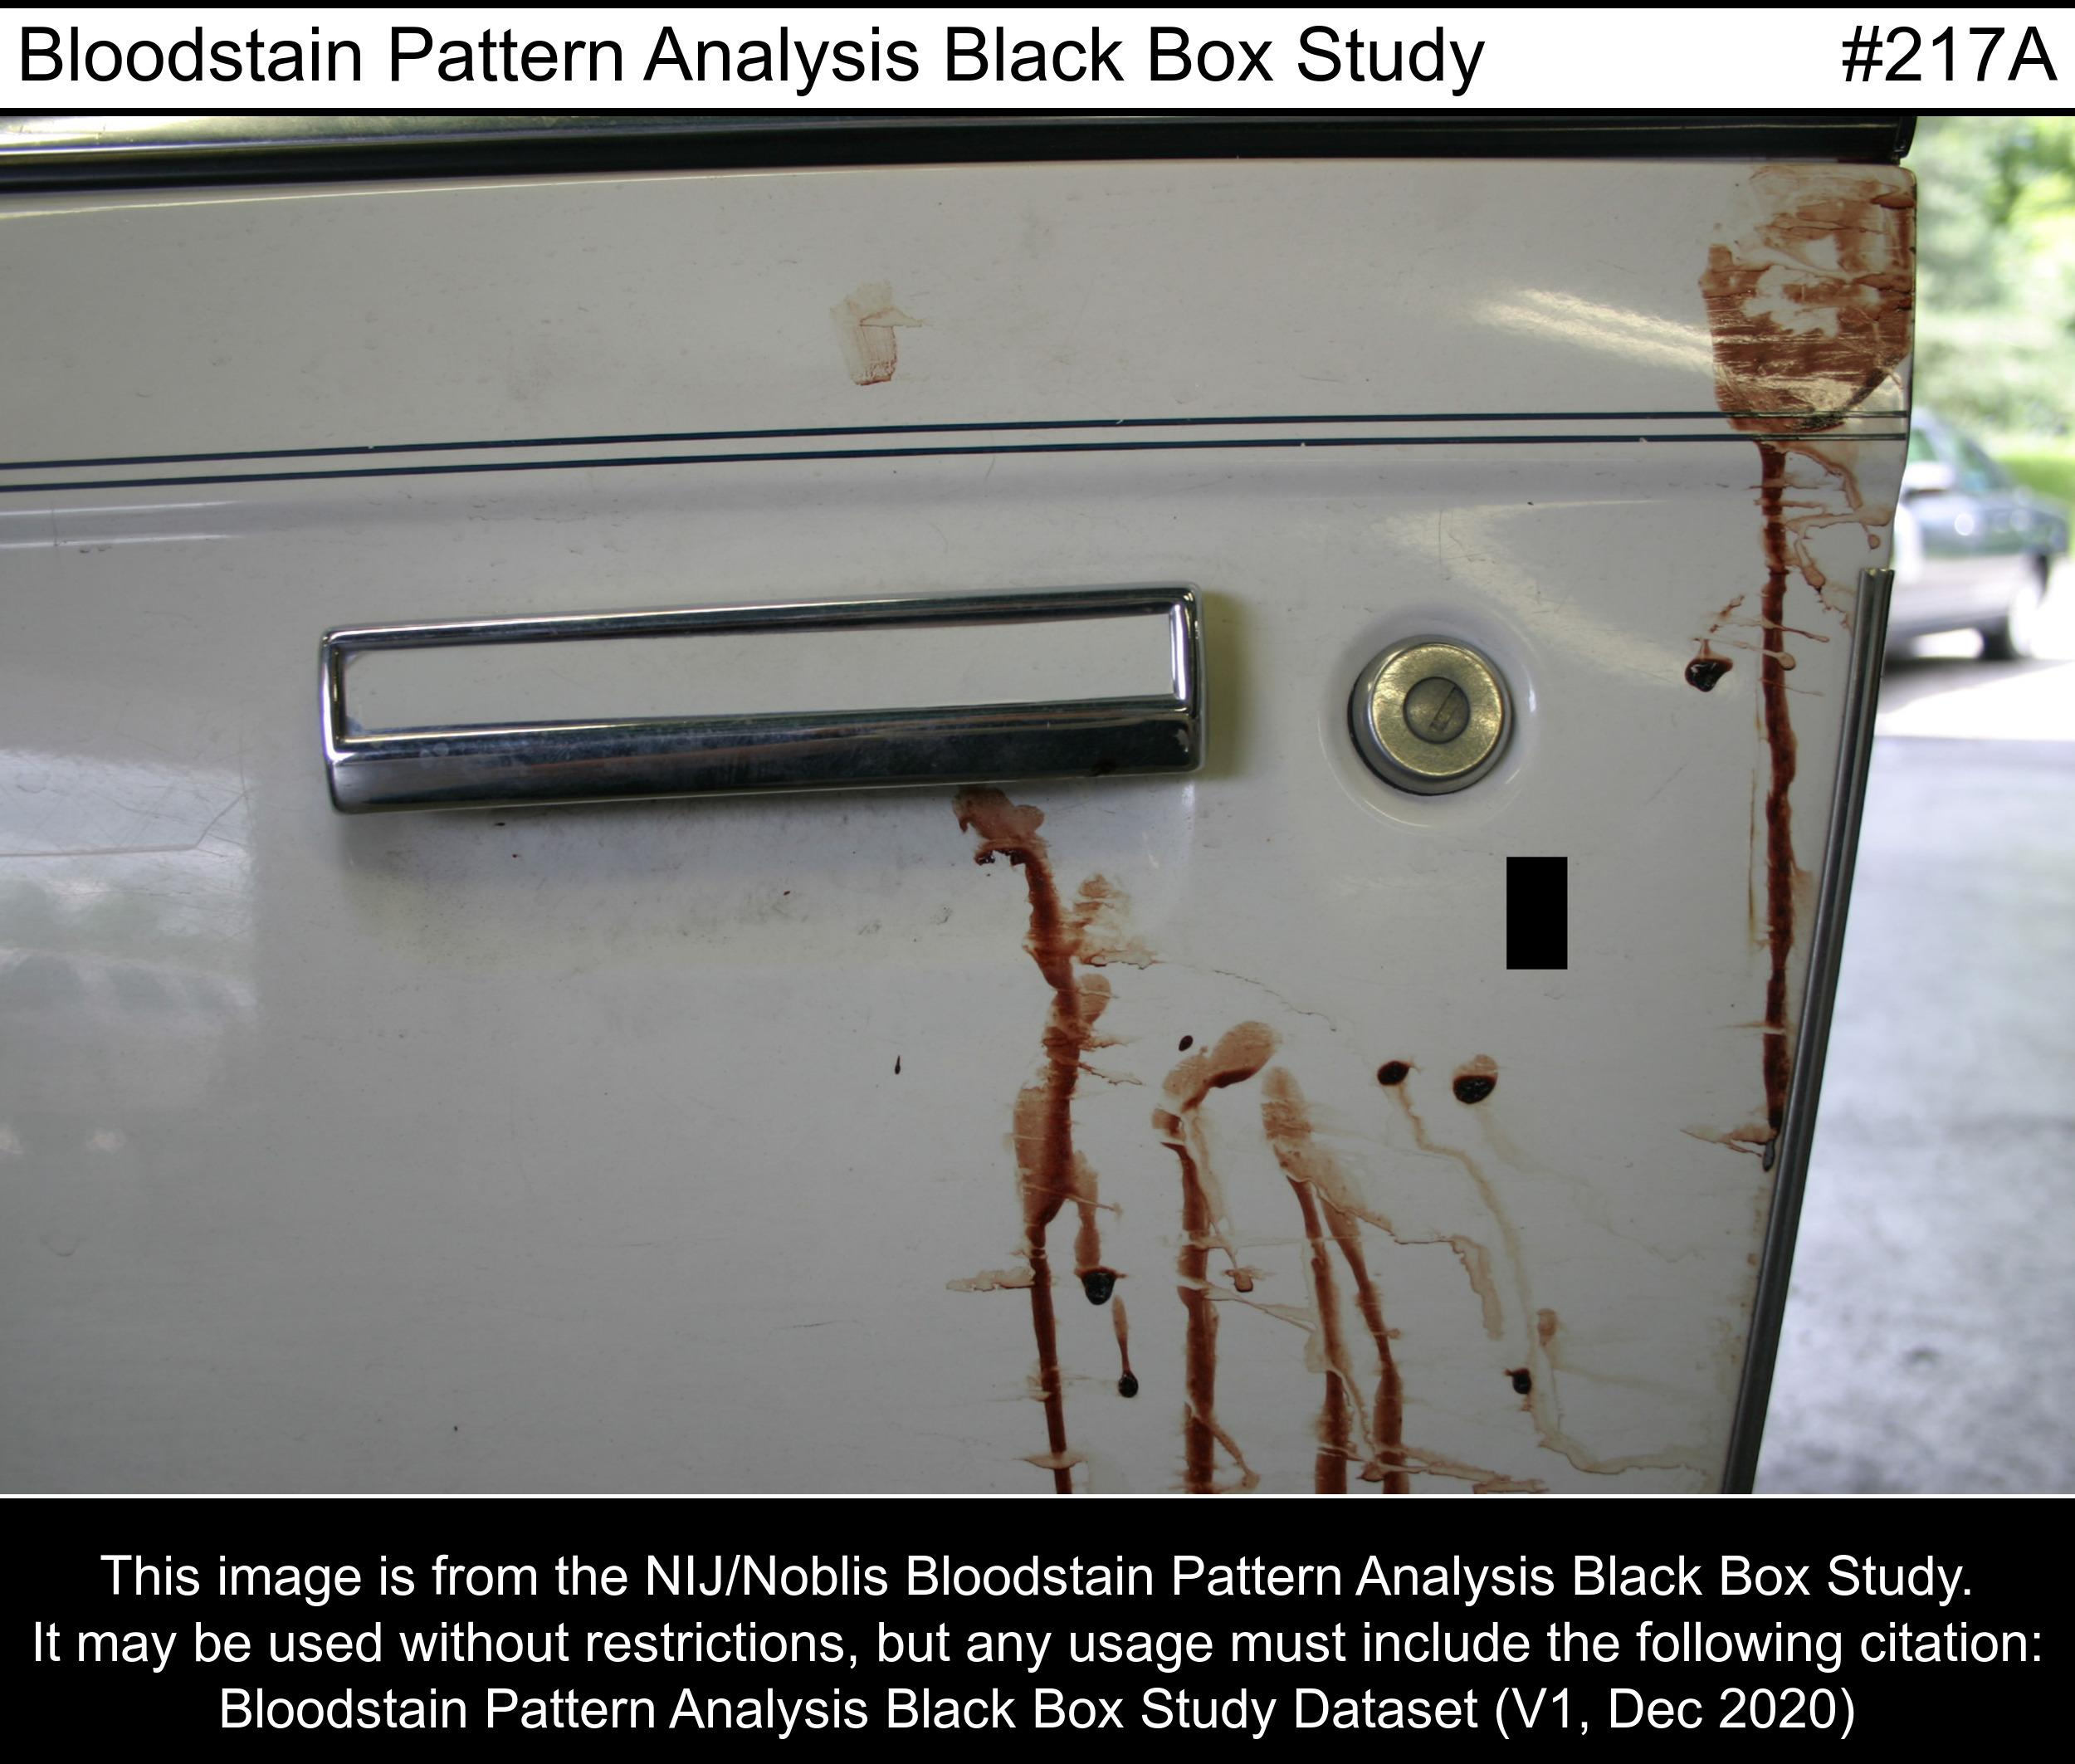Passive: (934, 808, 1517, 1480), (1706, 166, 1918, 1120)
